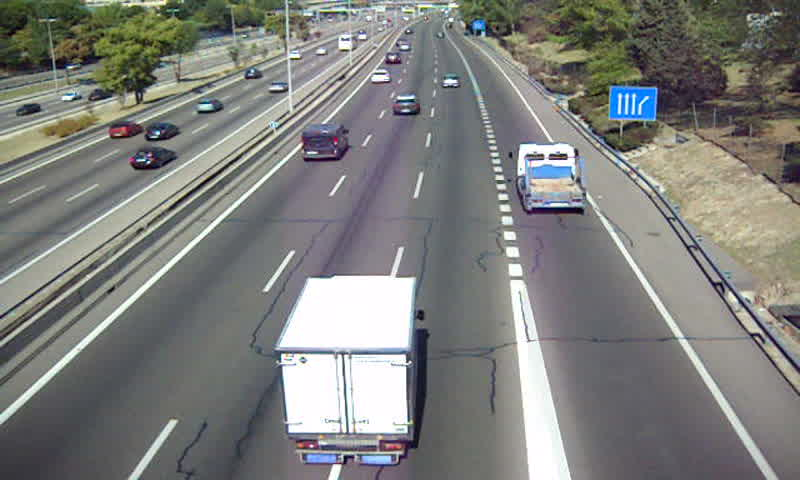car: (392, 94, 420, 118), (368, 69, 390, 86), (441, 74, 461, 91)
small-truck: (275, 274, 421, 462), (516, 141, 587, 214)
van: (300, 125, 348, 161)
